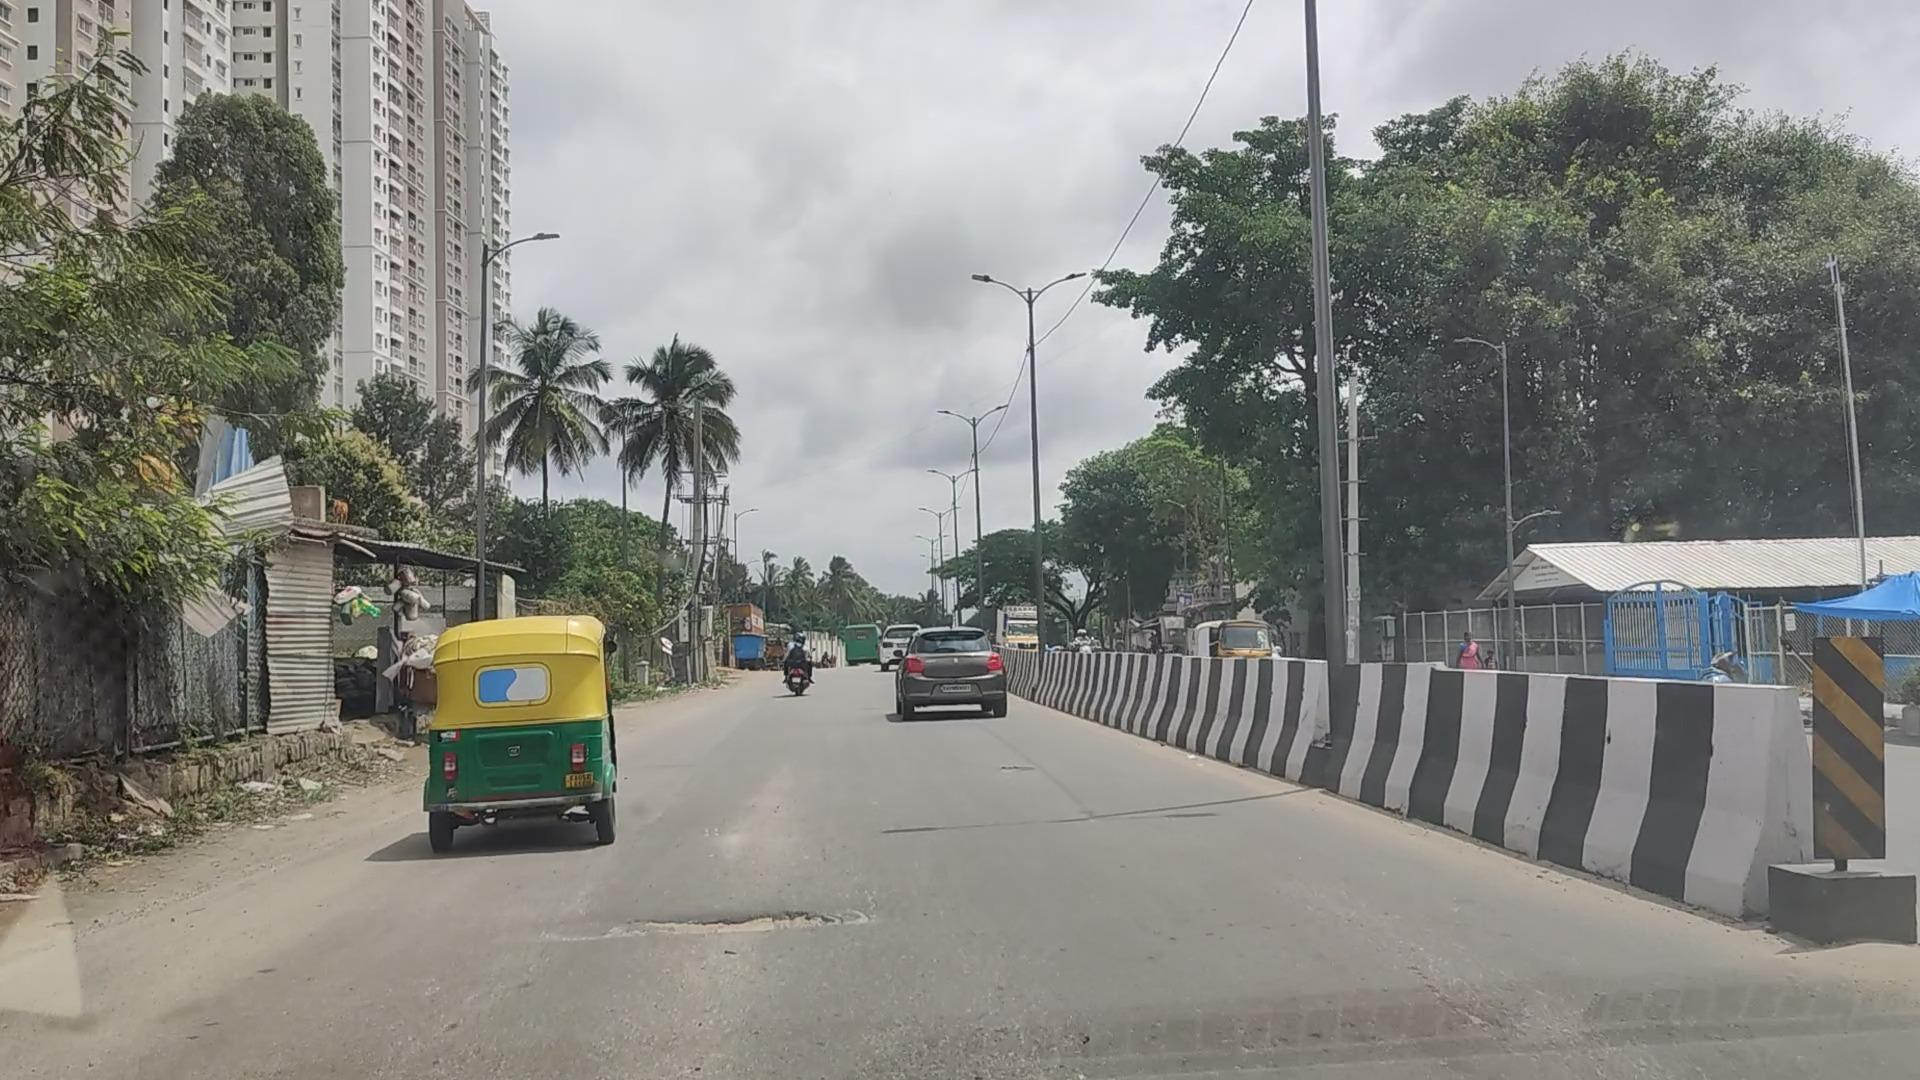LMV: (431, 621, 605, 847), (893, 632, 1000, 709), (782, 633, 814, 696)
RoadDamages: (575, 891, 884, 943)
